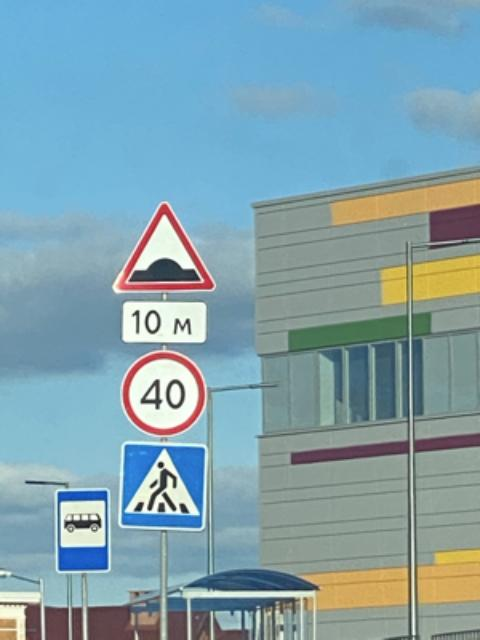crosswalk-sign: (118, 440, 209, 532)
